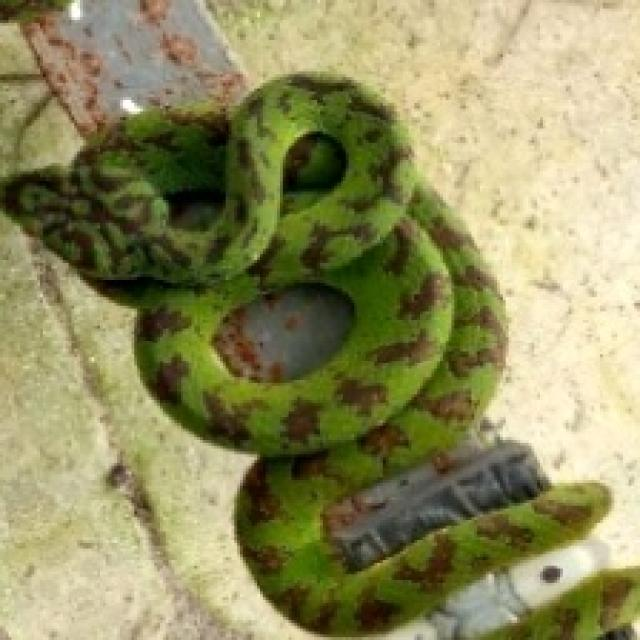philippine pitviper: (0, 74, 606, 631)
